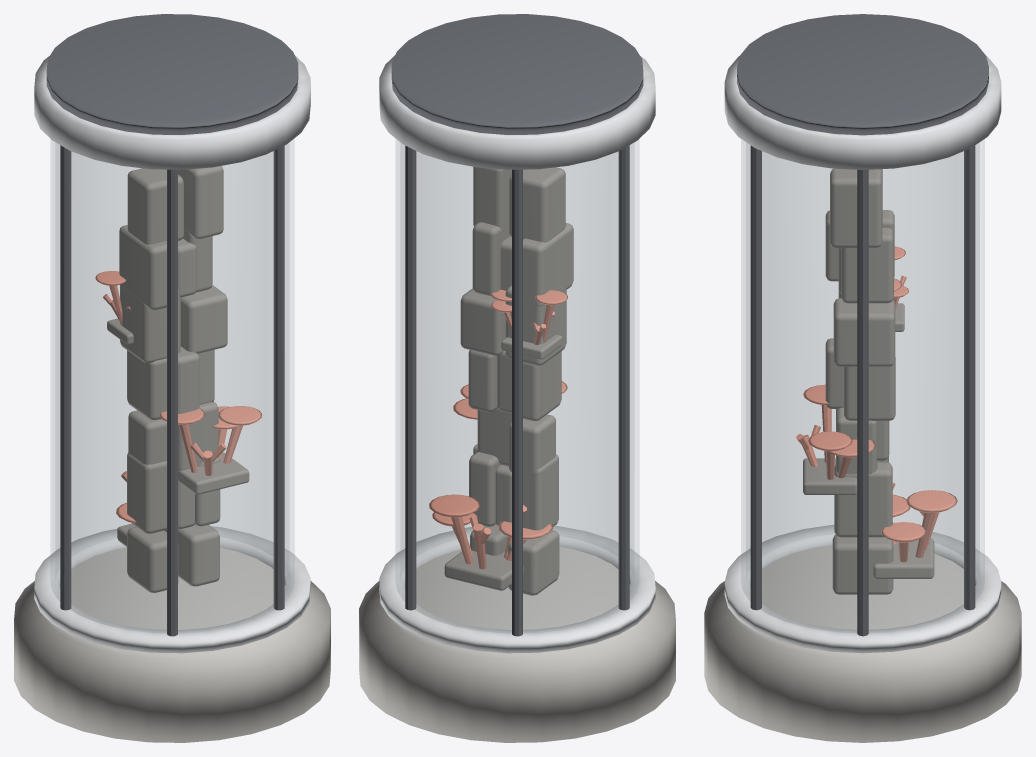
File: column-tank.glb
3 views of the same model, side by side, from view 1: azimuth 30°, elevation 25°; view 2: azimuth 150°, elevation 25°; view 3: azimuth 270°, elevation 25° (orthographic).
Parts seen in each view (by area): view 1: column-tank; view 2: column-tank; view 3: column-tank.
Part boxes in pixels (left/top/right/bottom): column-tank: left=14, top=14, right=330, bottom=742; column-tank: left=359, top=14, right=675, bottom=742; column-tank: left=704, top=14, right=1021, bottom=742.
Size of the model in its own units: 1.56 by 3.3 by 1.56.
